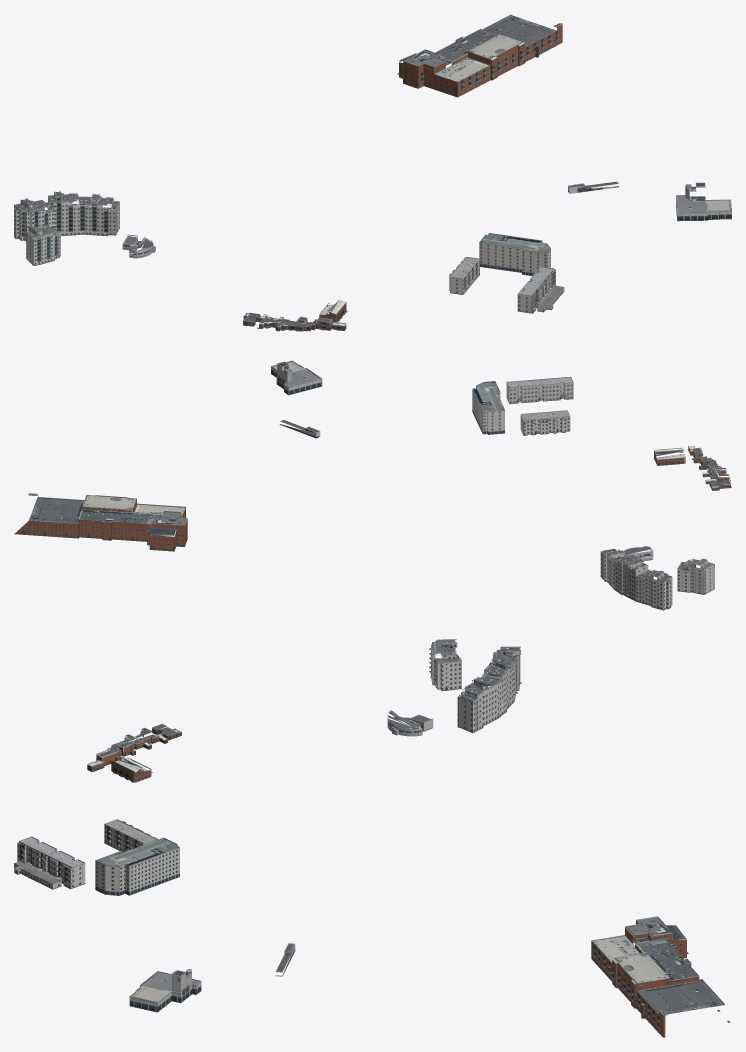
File: district-near.glb
3 renders of one model, top to bottom at view 1: azimuth 30°, elevation 25°; view 2: azimuth 150°, elevation 25°; view 3: azimuth 270°, elevation 25°, orthographic. The views are drawn at different scales.
Size of the model in its own units: 597 by 33.7 by 497.
2 materials, 2 textured.
